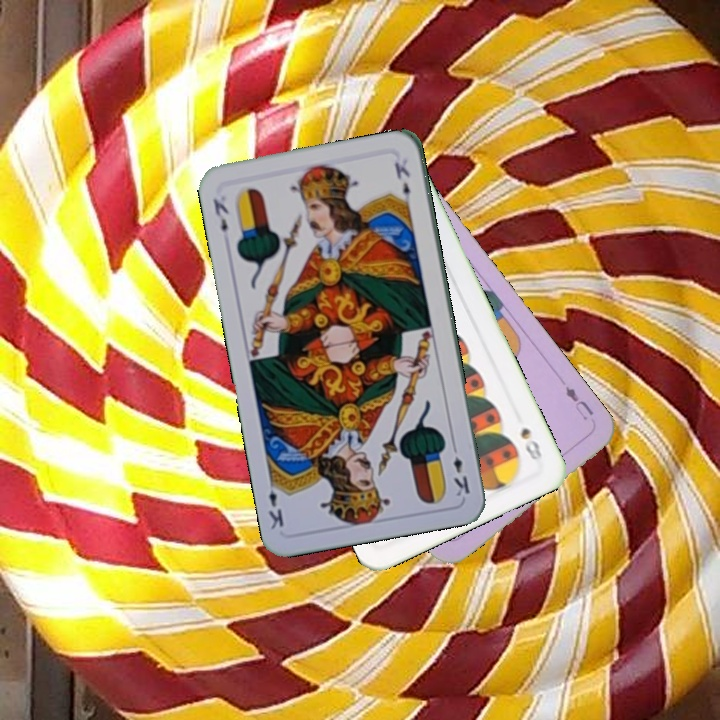EK: (448, 439, 473, 499), (209, 194, 232, 247)
EU: (561, 382, 597, 424)
S8: (516, 423, 545, 463)
